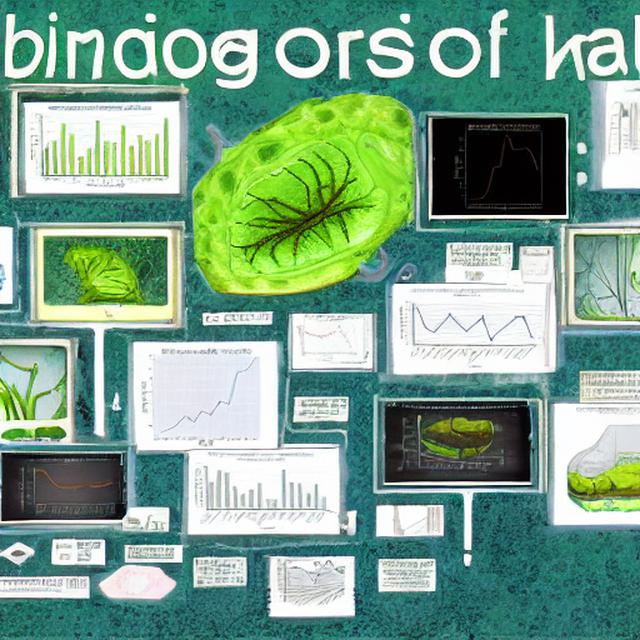Graph: (135, 343, 275, 448), (27, 104, 173, 191), (438, 119, 566, 215), (395, 286, 538, 370), (191, 450, 331, 533), (19, 457, 117, 520), (296, 316, 361, 360)
